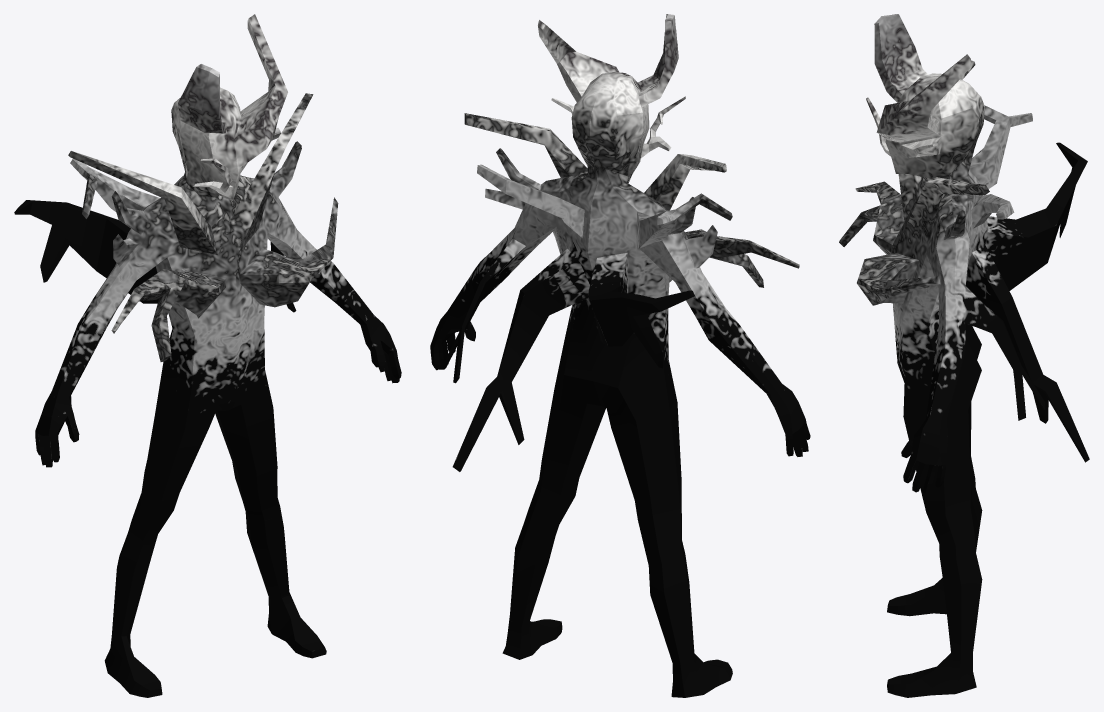
File: Amalgamanfbx.fbx
3 views of the same model, side by side, from view 1: azimuth 30°, elevation 25°; view 2: azimuth 150°, elevation 25°; view 3: azimuth 270°, elevation 25° (orthographic). The views are drawn at different scales.
Parts seen in each view (by area): view 1: Amalgaman; view 2: Amalgaman; view 3: Amalgaman.
Boxes of the visible parts, x1,y1,x2,y2 form: Amalgaman: (14, 14, 401, 697); Amalgaman: (430, 14, 810, 697); Amalgaman: (839, 14, 1089, 697).
Bounding box in the file's own units: 496 × 831 × 303.
1 material, 1 textured.
